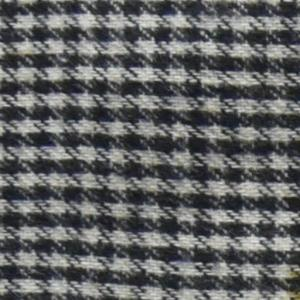Oil Stain: (287, 268, 300, 300)
